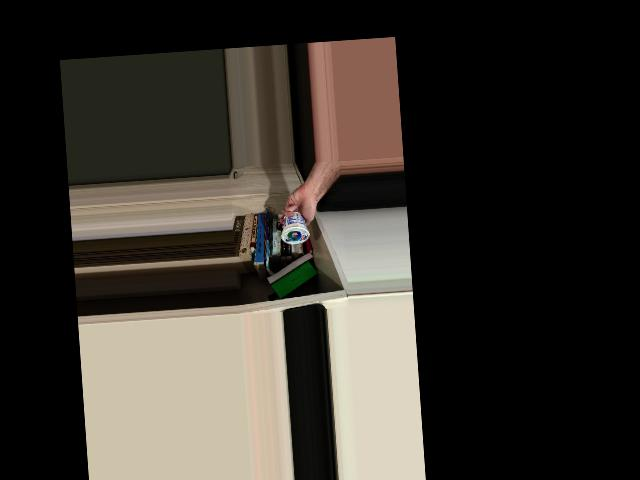cotage: (278, 205, 309, 246)
